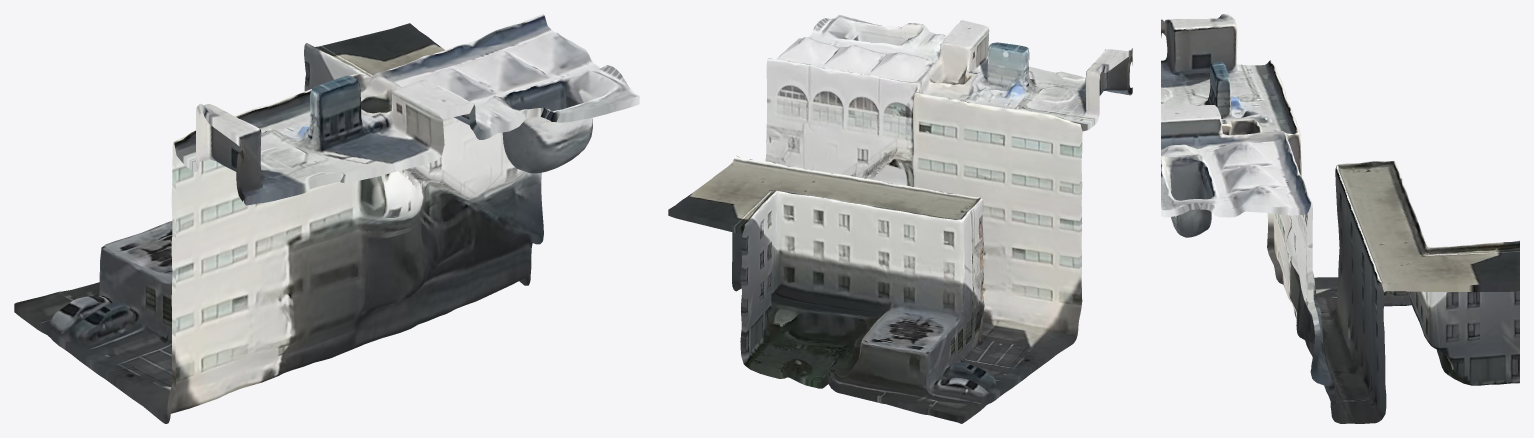
Rendered from z20-167754-405236-h0-yup-uvflip-v3-world.glb.
The picture shows the model from 3 angles, left to right: view 1: azimuth 30°, elevation 25°; view 2: azimuth 150°, elevation 25°; view 3: azimuth 270°, elevation 25°; orthographic projection. The views are drawn at different scales.
Bounding box in the file's own units: 30.16 × 25.28 × 30.32.
1 material, 1 textured.
